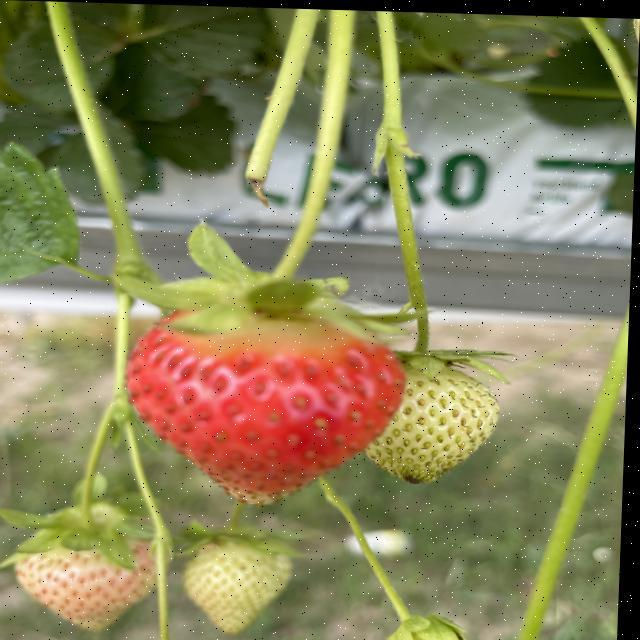stem: (0, 292, 150, 566), (164, 156, 367, 332), (384, 100, 488, 373), (185, 501, 275, 553), (278, 541, 295, 557)
strawberryNR: (366, 356, 499, 483), (16, 547, 151, 630), (183, 540, 289, 632)
strawberryR: (127, 318, 400, 502)
